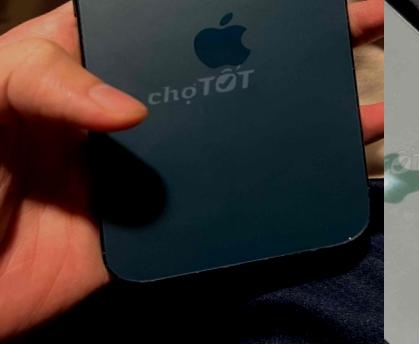scratch: (94, 187, 384, 297), (24, 0, 107, 80)
